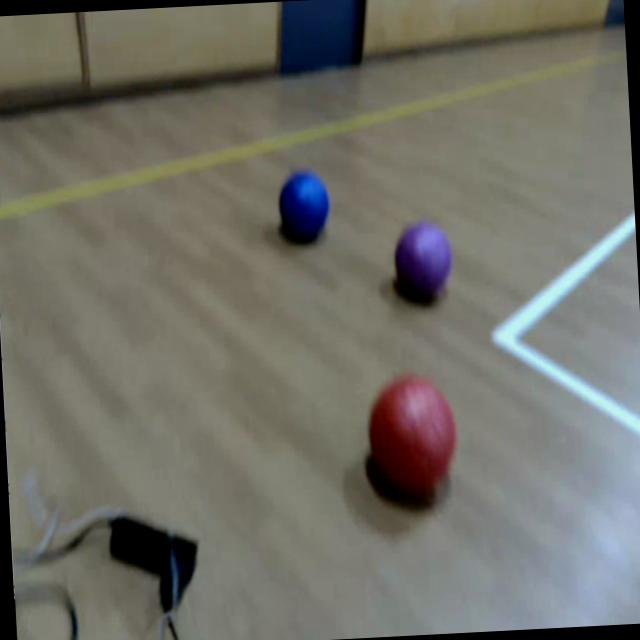blue_ball: (277, 167, 334, 242)
purple_ball: (394, 218, 456, 303)
red_ball: (366, 371, 462, 491)
